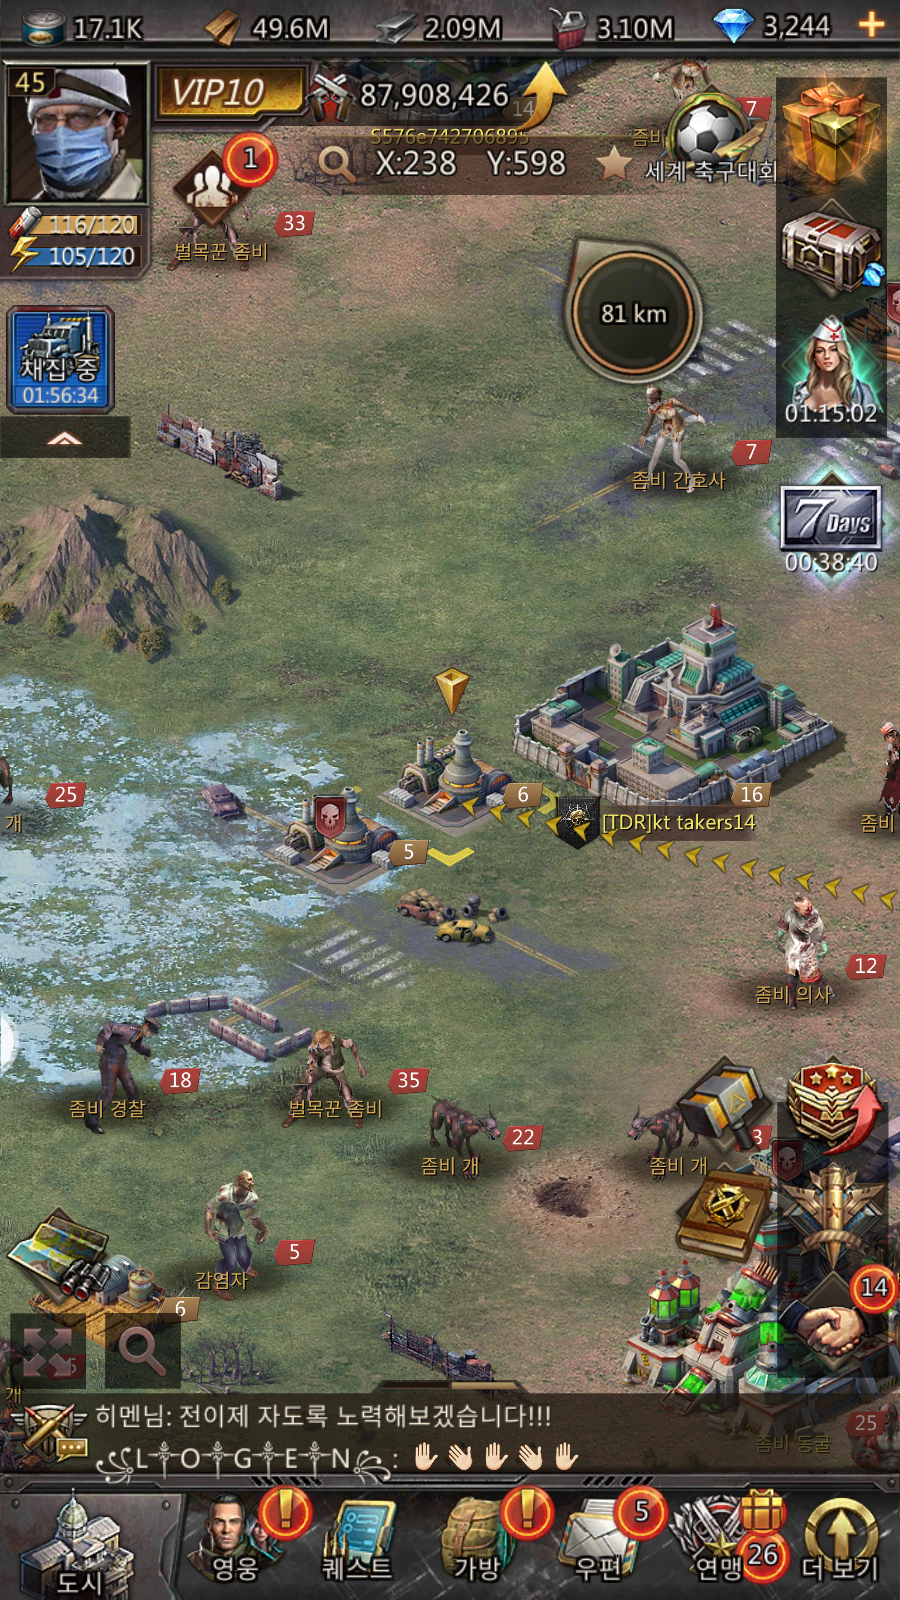city: (1, 1480, 184, 1600)
occupied_steel: (296, 651, 575, 882)
open_panel: (85, 1295, 213, 1415)
troops_cnt_1: (153, 116, 302, 238)
